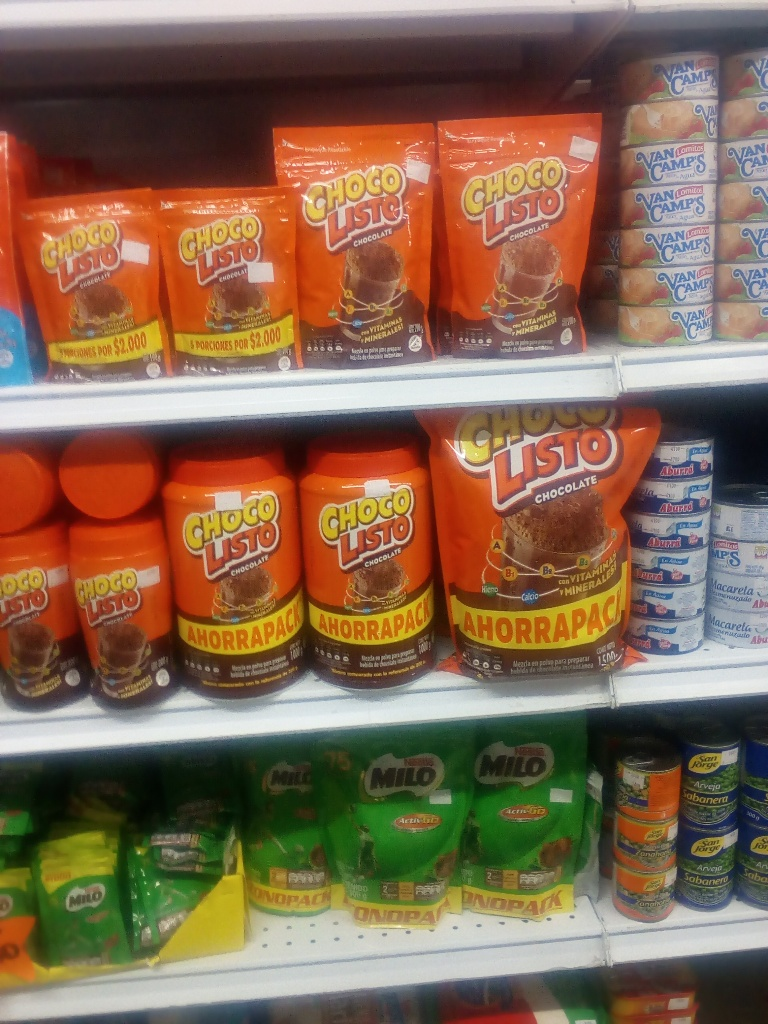COL0170103TRR00100: (165, 430, 309, 698)
